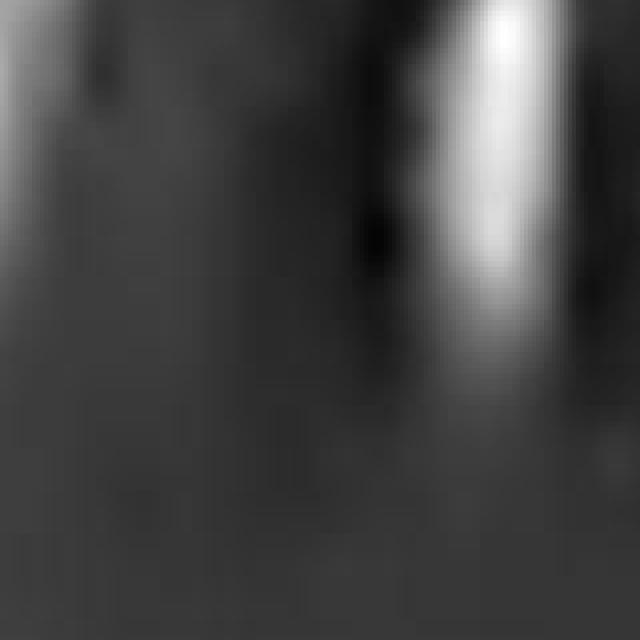person: (405, 1, 581, 396), (1, 1, 65, 262)
